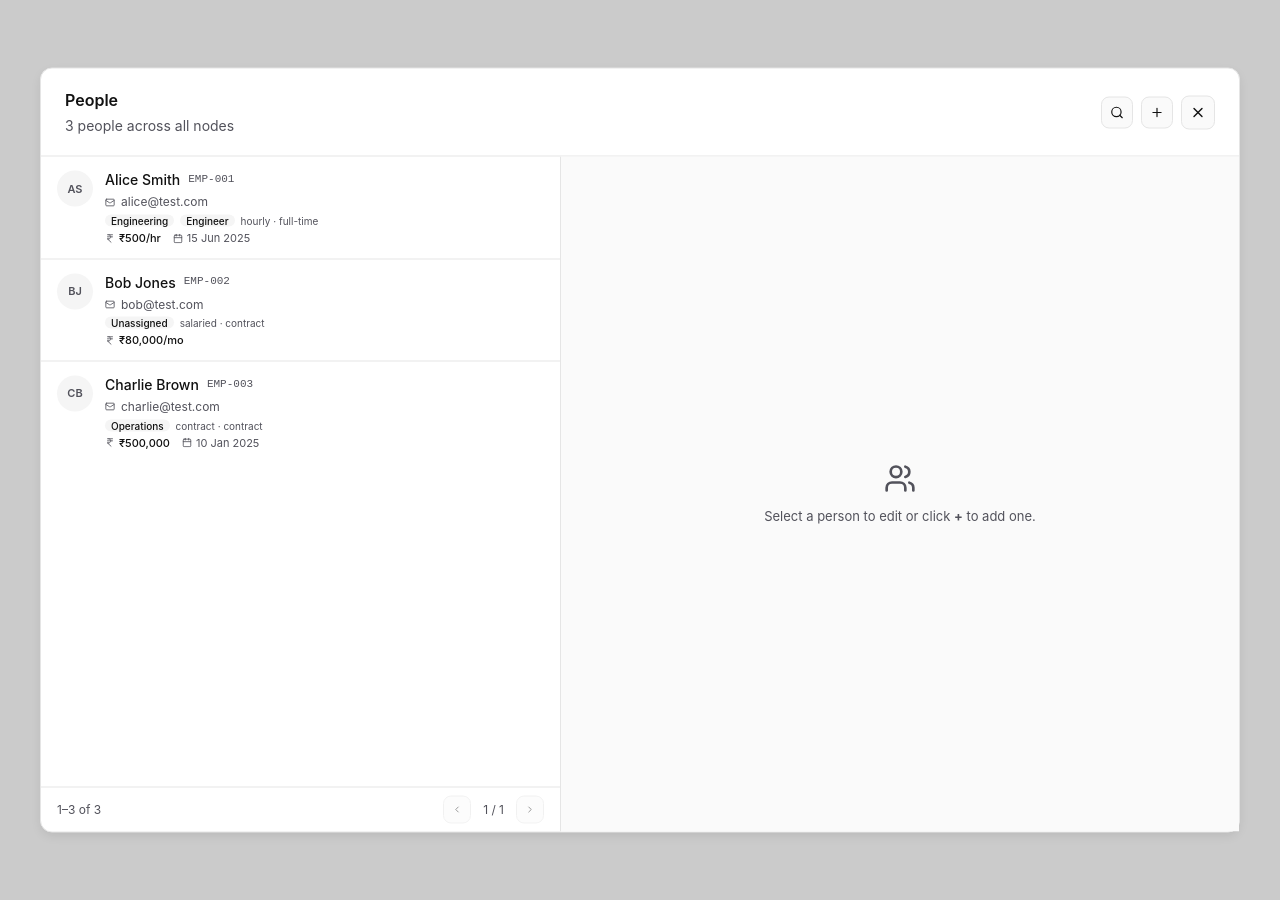
Test: PeopleModal › add button opens create form
Check: the element with test id "people-modal-list" is shown, box x1=41 y1=157 x2=561 y2=832
Click the button named "Add person". click: (1157, 112)
box: x1=1141 y1=96 x2=1173 y2=128
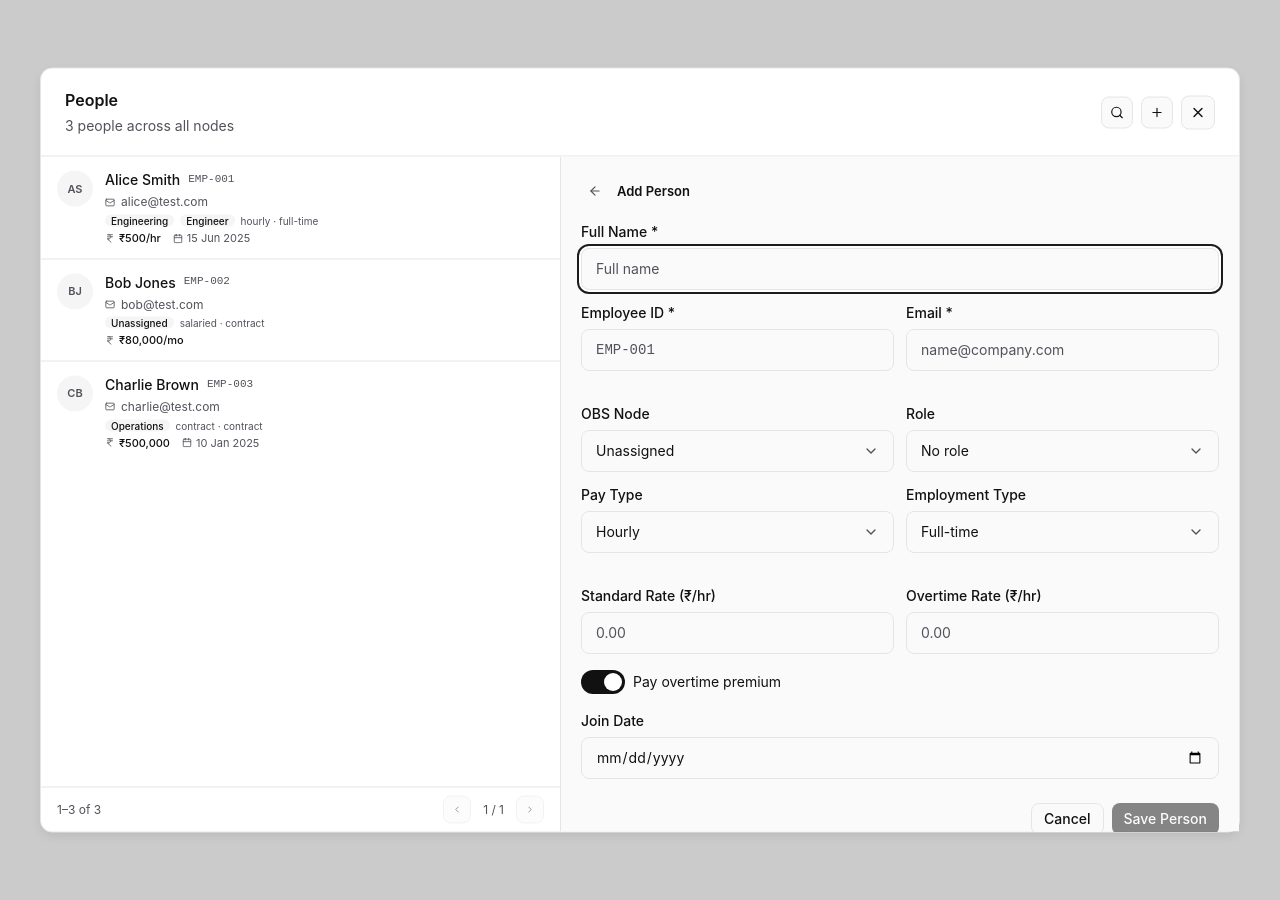
Check: the heading "Add Person" is shown, box x1=617 y1=181 x2=690 y2=201
